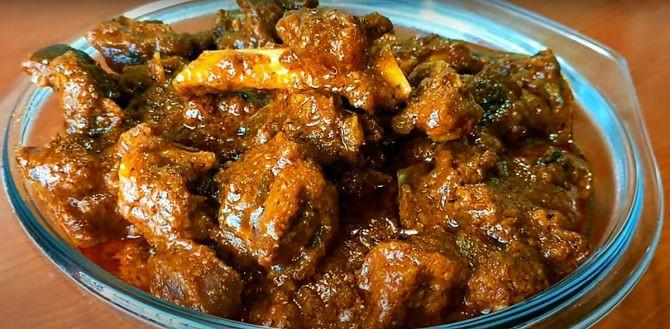MuttonCurry: (17, 0, 594, 329)
